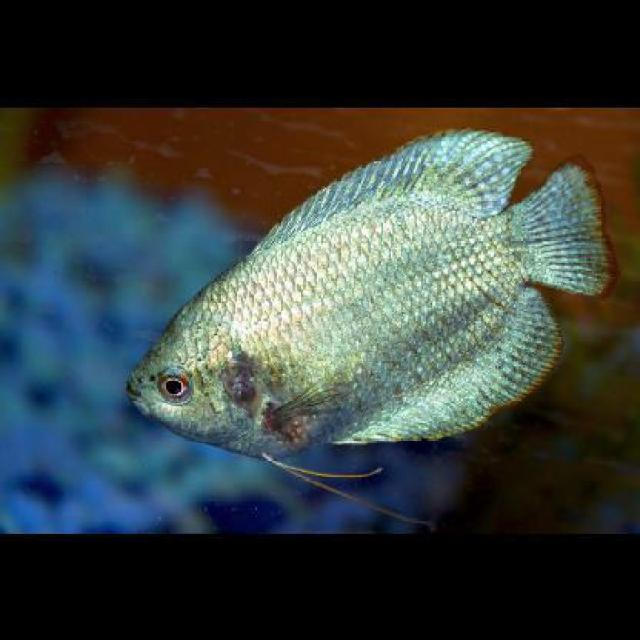Gourami: (125, 123, 617, 449)
